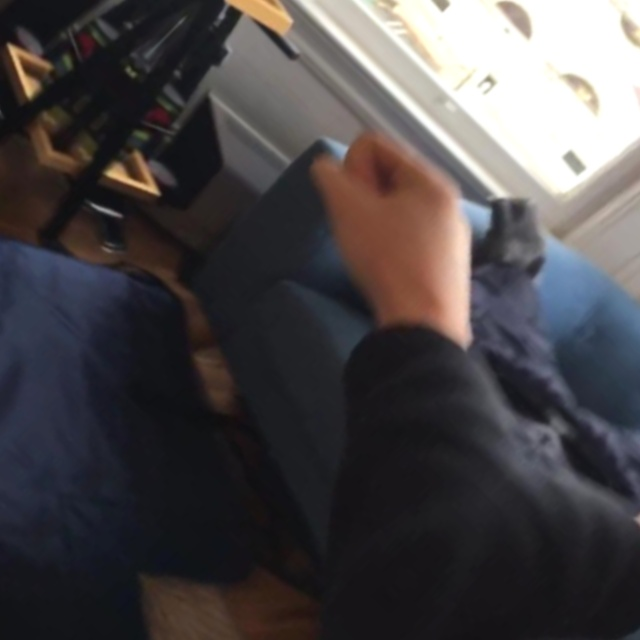Rock: (269, 105, 523, 358)
